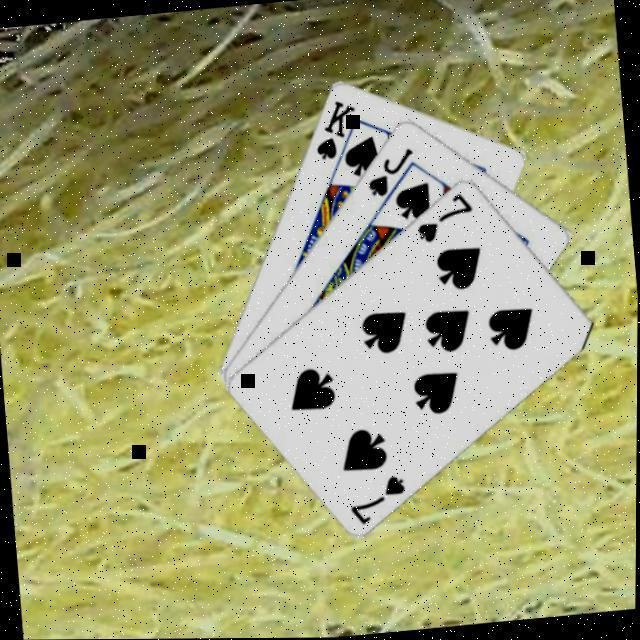7S: (412, 190, 478, 247), (346, 472, 412, 529)
JS: (362, 144, 420, 201)
KS: (309, 96, 362, 164)
